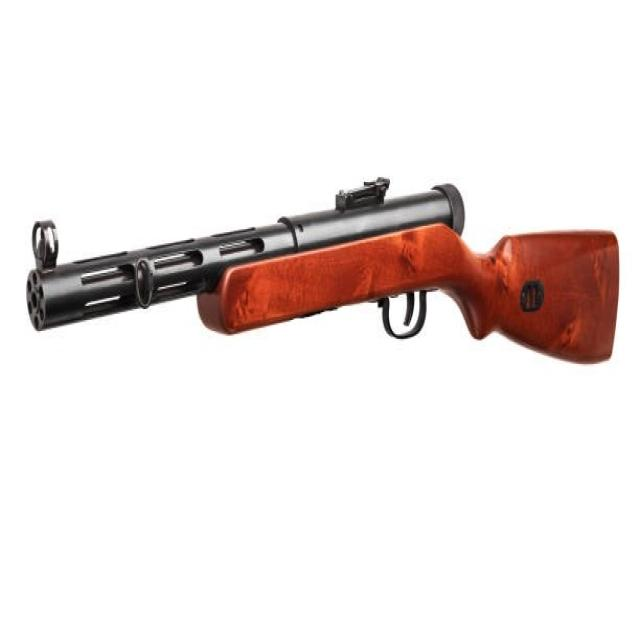rifle: (23, 170, 621, 392)
